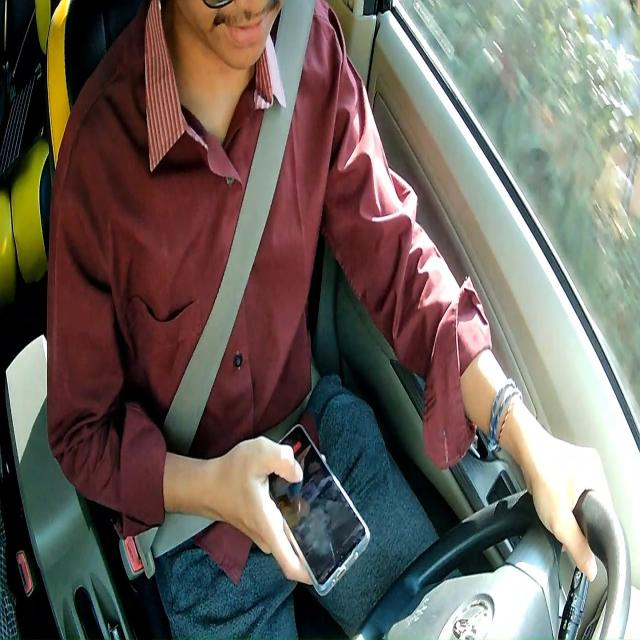phone: (268, 421, 372, 596)
